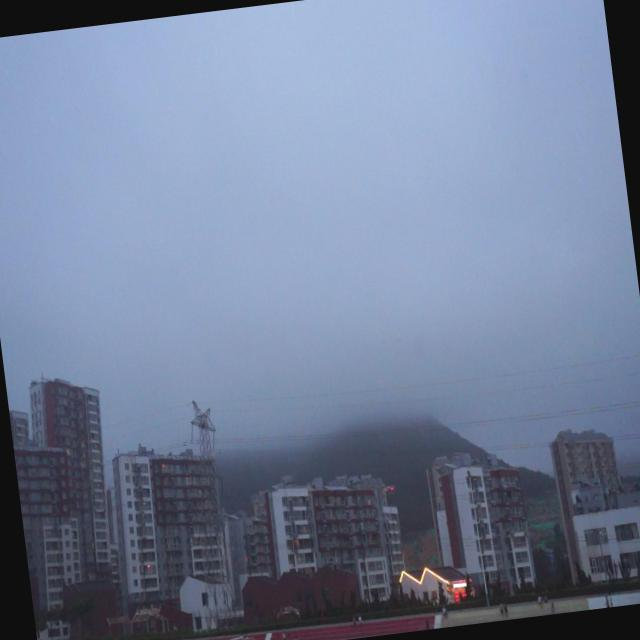drone: (381, 480, 396, 498)
